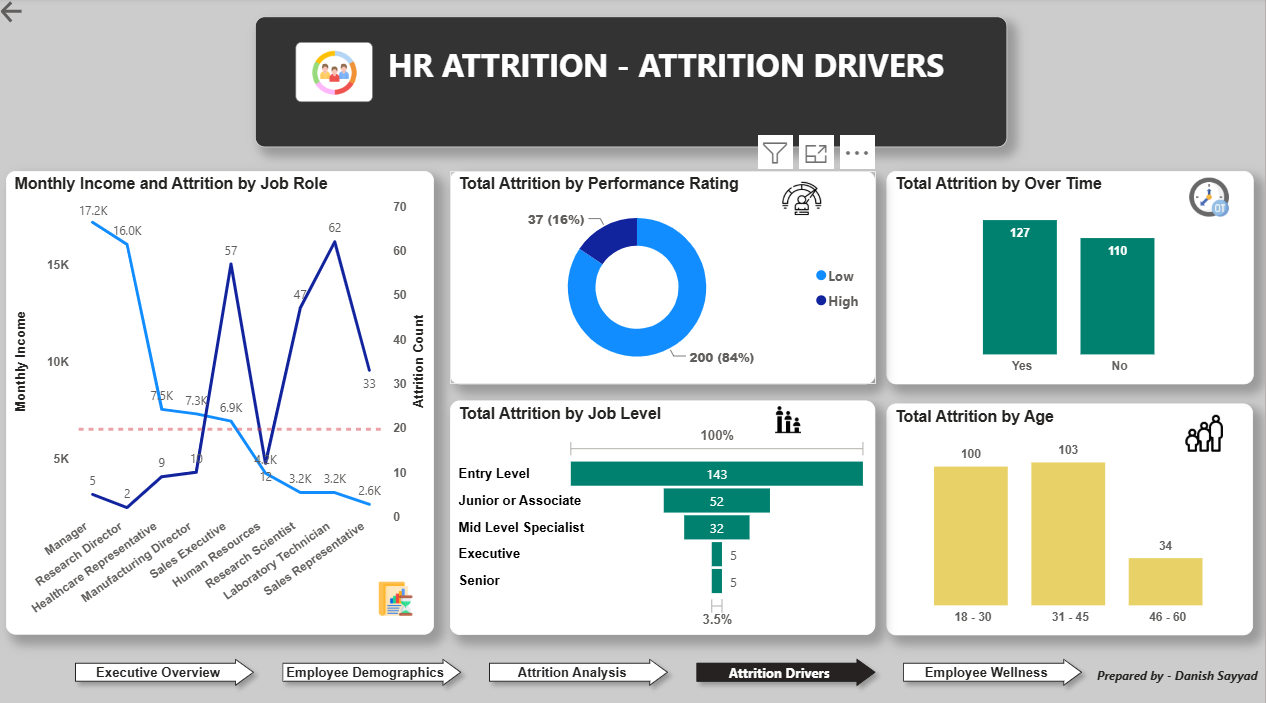

The dashboard page shown, as its layout file describes it:
{"tool":"powerbi","page":{"name":"Attrition Drivers","canvas":[1280,720],"ordinal":3},"visuals":[{"type":"textbox","box":[260.7,19.5,759,132.1],"z":0},{"type":"image","box":[301.3,45.4,77.8,60.5],"z":1000},{"type":"lineChart","title":"Monthly Income and Attrition by Job Role","fields":{"Category":["HR-Employee-Attrition.JobRole"],"Y":["Avg(HR-Employee-Attrition.MonthlyIncome)"],"Y2":["Sum(HR-Employee-Attrition.Attrition Count)"]},"box":[8.9,175.6,431.8,468.2],"z":2000},{"type":"clusteredColumnChart","title":"Total  Attrition by Age","fields":{"Y":["Sum(HR-Employee-Attrition.Attrition Count)"],"Category":["HR-Employee-Attrition.Age (groups)"]},"box":[898.2,409.7,369.8,234.1],"z":3000},{"type":"columnChart","title":"Total Attrition by Over Time","fields":{"Category":["HR-Employee-Attrition.OverTime"],"Y":["Sum(HR-Employee-Attrition.Attrition Count)"]},"box":[898.2,175.6,370.6,215.5],"z":4000},{"type":"donutChart","title":"Total Attrition by Performance Rating","fields":{"Y":["Sum(HR-Employee-Attrition.Attrition Count)"],"Category":["HR-Employee-Attrition.PerformanceRating (groups)"]},"box":[457.5,175.6,429.2,215.5],"z":5000},{"type":"funnel","title":"Total Attrition by Job Level","fields":{"Y":["Sum(HR-Employee-Attrition.Attrition Count)"],"Category":["HR-Employee-Attrition.JobLevel (groups)"]},"box":[457.5,407,429.2,236.7],"z":6000},{"type":"image","box":[380.4,581.7,44.3,52.3],"z":7000},{"type":"image","box":[1180.2,175.6,87.8,52.3],"z":8000},{"type":"image","box":[742.2,404.3,113.5,44.3],"z":9000},{"type":"image","box":[770.5,179.1,83.3,48.8],"z":10000},{"type":"pageNavigator","box":[69.7,658.7,1035.7,46.9],"z":11000},{"type":"actionButton","box":[0,0,69.2,30.1],"z":12000},{"type":"image","box":[1178.8,415.8,78.3,47.7],"z":13000},{"type":"textbox","box":[1105.4,669.3,174.1,36.3],"z":13001}]}

Visuals, with their boxes in screenshot pixels (x1, y1, x2, y2), scaled from the page's 1280x720 canvas onto the 1266x703 screenshot:
textbox: 258,19,1009,148
image: 298,44,375,103
"Monthly Income and Attrition by Job Role" lineChart: 9,171,436,629
"Total  Attrition by Age" clusteredColumnChart: 888,400,1254,629
"Total Attrition by Over Time" columnChart: 888,171,1255,382
"Total Attrition by Performance Rating" donutChart: 452,171,877,382
"Total Attrition by Job Level" funnel: 452,397,877,629
image: 376,568,420,619
image: 1167,171,1254,223
image: 734,395,846,438
image: 762,175,844,223
pageNavigator: 69,643,1093,689
actionButton: 0,0,68,29
image: 1166,406,1243,453
textbox: 1093,653,1265,689
